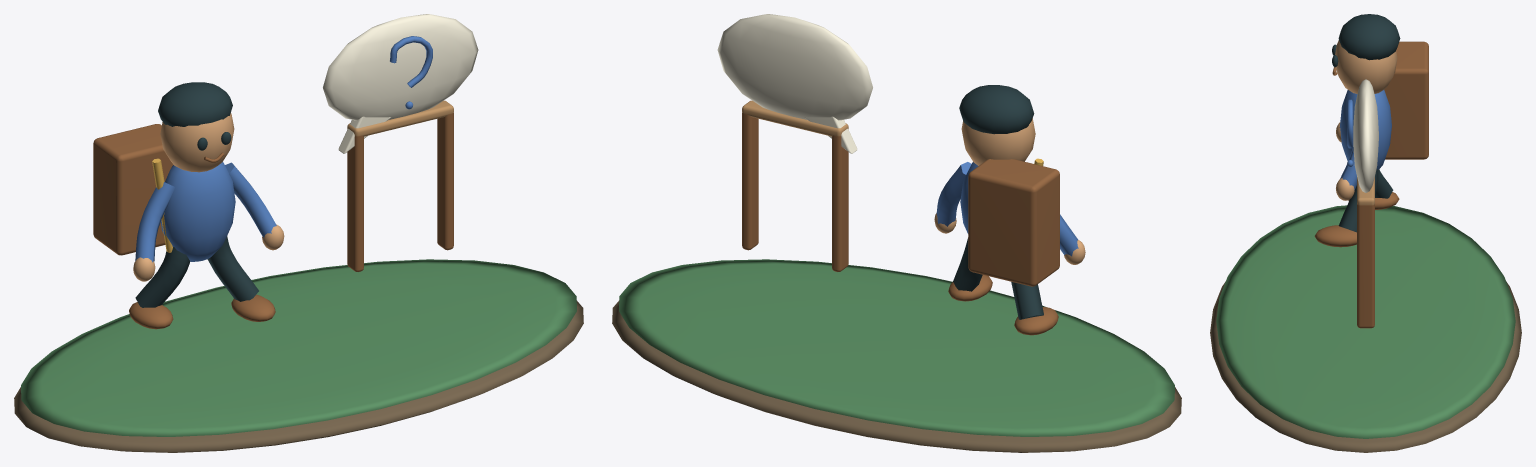
File: complete-second-any-duty-gate.glb
3 renders of one model, left to right at view 1: azimuth 30°, elevation 25°; view 2: azimuth 150°, elevation 25°; view 3: azimuth 270°, elevation 25°, orthographic. The views are drawn at different scales.
Visible parts, largest first — view 1: complete-second-any-duty-gate_surface_01, complete-second-any-duty-gate_surface_04, complete-second-any-duty-gate_surface_07, complete-second-any-duty-gate_surface_00, complete-second-any-duty-gate_surface_05, complete-second-any-duty-gate_surface_03, complete-second-any-duty-gate_surface_02, complete-second-any-duty-gate_surface_08; view 2: complete-second-any-duty-gate_surface_01, complete-second-any-duty-gate_surface_04, complete-second-any-duty-gate_surface_07, complete-second-any-duty-gate_surface_00, complete-second-any-duty-gate_surface_03, complete-second-any-duty-gate_surface_02, complete-second-any-duty-gate_surface_05, complete-second-any-duty-gate_surface_08; view 3: complete-second-any-duty-gate_surface_01, complete-second-any-duty-gate_surface_04, complete-second-any-duty-gate_surface_00, complete-second-any-duty-gate_surface_03, complete-second-any-duty-gate_surface_07, complete-second-any-duty-gate_surface_02, complete-second-any-duty-gate_surface_05, complete-second-any-duty-gate_surface_08.
Boxes of the visible parts, left/top/right/bottom form: complete-second-any-duty-gate_surface_01: left=21, top=259, right=576, bottom=436; complete-second-any-duty-gate_surface_04: left=93, top=112, right=453, bottom=329; complete-second-any-duty-gate_surface_07: left=323, top=14, right=478, bottom=153; complete-second-any-duty-gate_surface_00: left=14, top=300, right=583, bottom=452; complete-second-any-duty-gate_surface_05: left=135, top=36, right=432, bottom=262; complete-second-any-duty-gate_surface_03: left=135, top=82, right=258, bottom=307; complete-second-any-duty-gate_surface_02: left=133, top=113, right=284, bottom=281; complete-second-any-duty-gate_surface_08: left=347, top=100, right=453, bottom=136; complete-second-any-duty-gate_surface_01: left=619, top=259, right=1174, bottom=436; complete-second-any-duty-gate_surface_04: left=742, top=112, right=1059, bottom=335; complete-second-any-duty-gate_surface_07: left=717, top=14, right=872, bottom=153; complete-second-any-duty-gate_surface_00: left=612, top=300, right=1181, bottom=452; complete-second-any-duty-gate_surface_03: left=953, top=85, right=1043, bottom=319; complete-second-any-duty-gate_surface_02: left=934, top=118, right=1085, bottom=264; complete-second-any-duty-gate_surface_05: left=936, top=162, right=1078, bottom=256; complete-second-any-duty-gate_surface_08: left=742, top=100, right=848, bottom=136; complete-second-any-duty-gate_surface_01: left=1216, top=205, right=1515, bottom=438; complete-second-any-duty-gate_surface_04: left=1314, top=41, right=1428, bottom=328; complete-second-any-duty-gate_surface_00: left=1210, top=281, right=1521, bottom=452; complete-second-any-duty-gate_surface_03: left=1332, top=14, right=1400, bottom=232; complete-second-any-duty-gate_surface_07: left=1353, top=79, right=1378, bottom=192; complete-second-any-duty-gate_surface_02: left=1335, top=40, right=1397, bottom=200; complete-second-any-duty-gate_surface_05: left=1339, top=90, right=1391, bottom=190; complete-second-any-duty-gate_surface_08: left=1357, top=177, right=1374, bottom=205.
Bounding box in the file's own units: 4.56 × 2.67 × 2.5.
